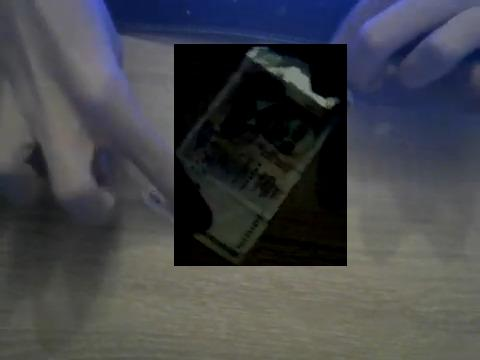10leva: (174, 44, 347, 266)
